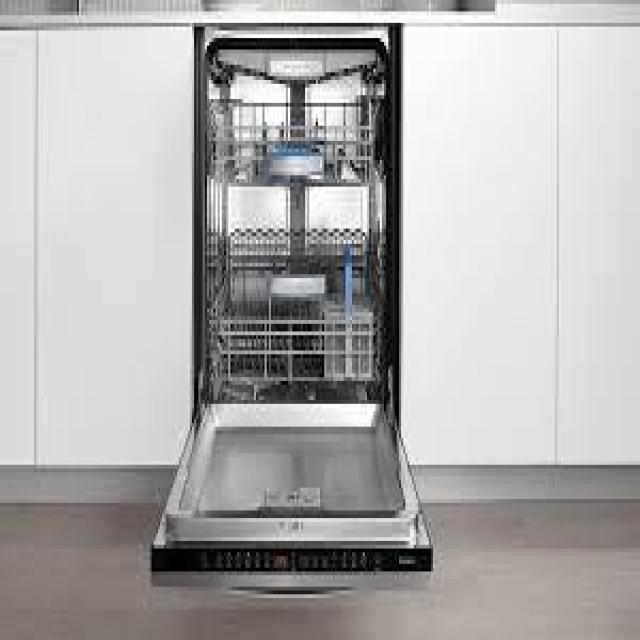dishwasher: (148, 12, 438, 598)
